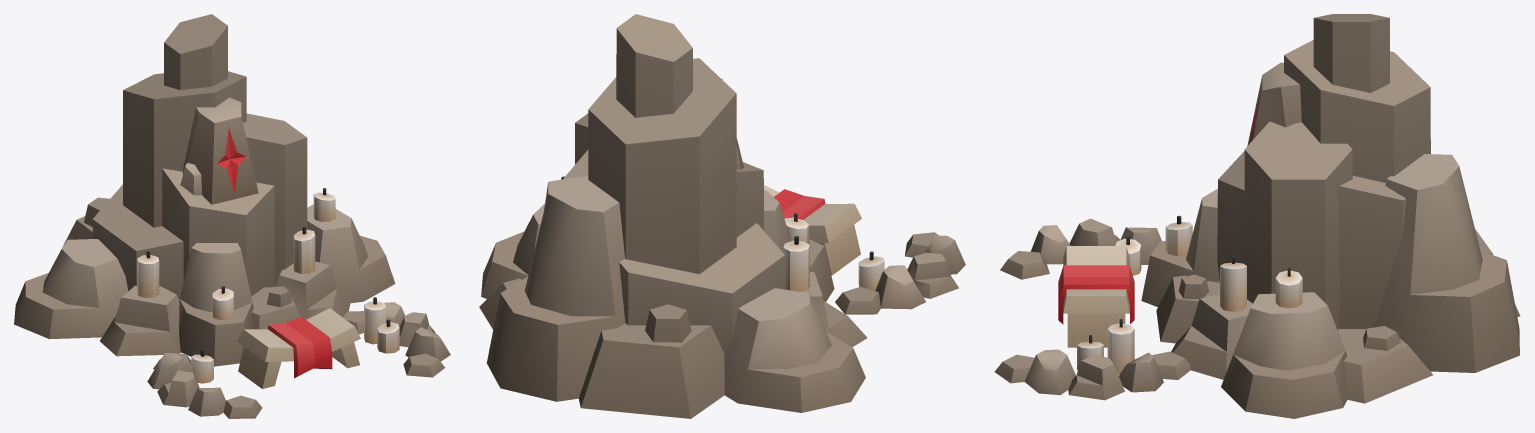
The model's file is shrine.glb.
The picture shows the model from 3 angles, left to right: view 1: azimuth 30°, elevation 25°; view 2: azimuth 150°, elevation 25°; view 3: azimuth 270°, elevation 25°; orthographic projection. The views are drawn at different scales.
Parts seen in each view (by area): view 1: shrine; view 2: shrine; view 3: shrine.
Part boxes in pixels (box(x1,y1,x2,y2)): shrine: box(14, 14, 450, 418); shrine: box(479, 14, 965, 418); shrine: box(994, 14, 1520, 418).
Bounding box in the file's own units: 0.5772 × 0.4267 × 0.6486.
Materials: 1 (1 with a texture image).
